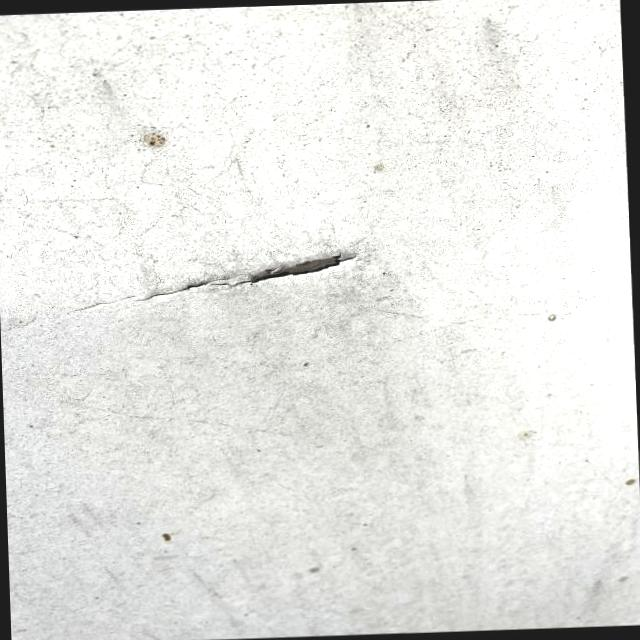crack: (168, 250, 388, 308)
